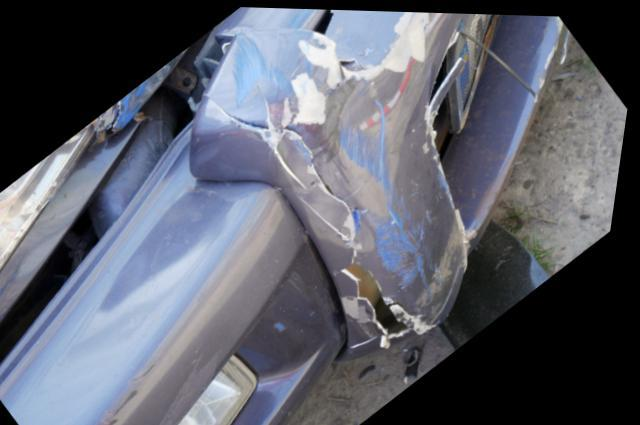crack: (349, 257, 427, 340)
dislocated part: (0, 6, 557, 425)
scratch: (339, 110, 453, 303), (107, 358, 168, 425)
